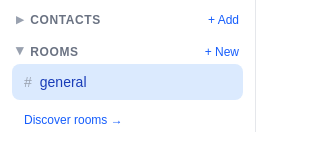
Test: SidebarLeft accordion › lets the user collapse Rooms while a room is active
The width and height of the screenshot is (320, 160).
Expected: the text "general" is shown, [40, 74, 86, 90]
Click the button "▶ Rooms".
click(47, 52)  # box [12, 44, 83, 60]
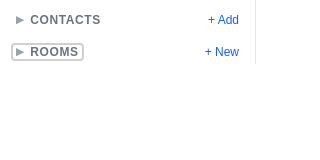
Expected: the button "▶ Rooms" is collapsed, [12, 44, 83, 60]
Expected: the button "general" is gone
